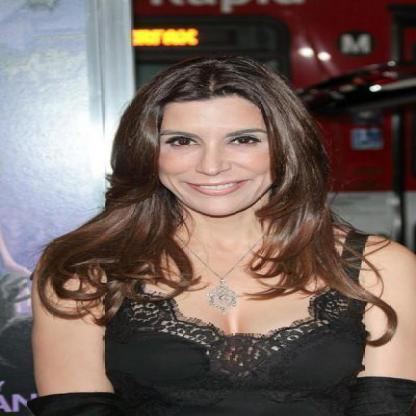long-hair: (71, 216, 362, 249)
